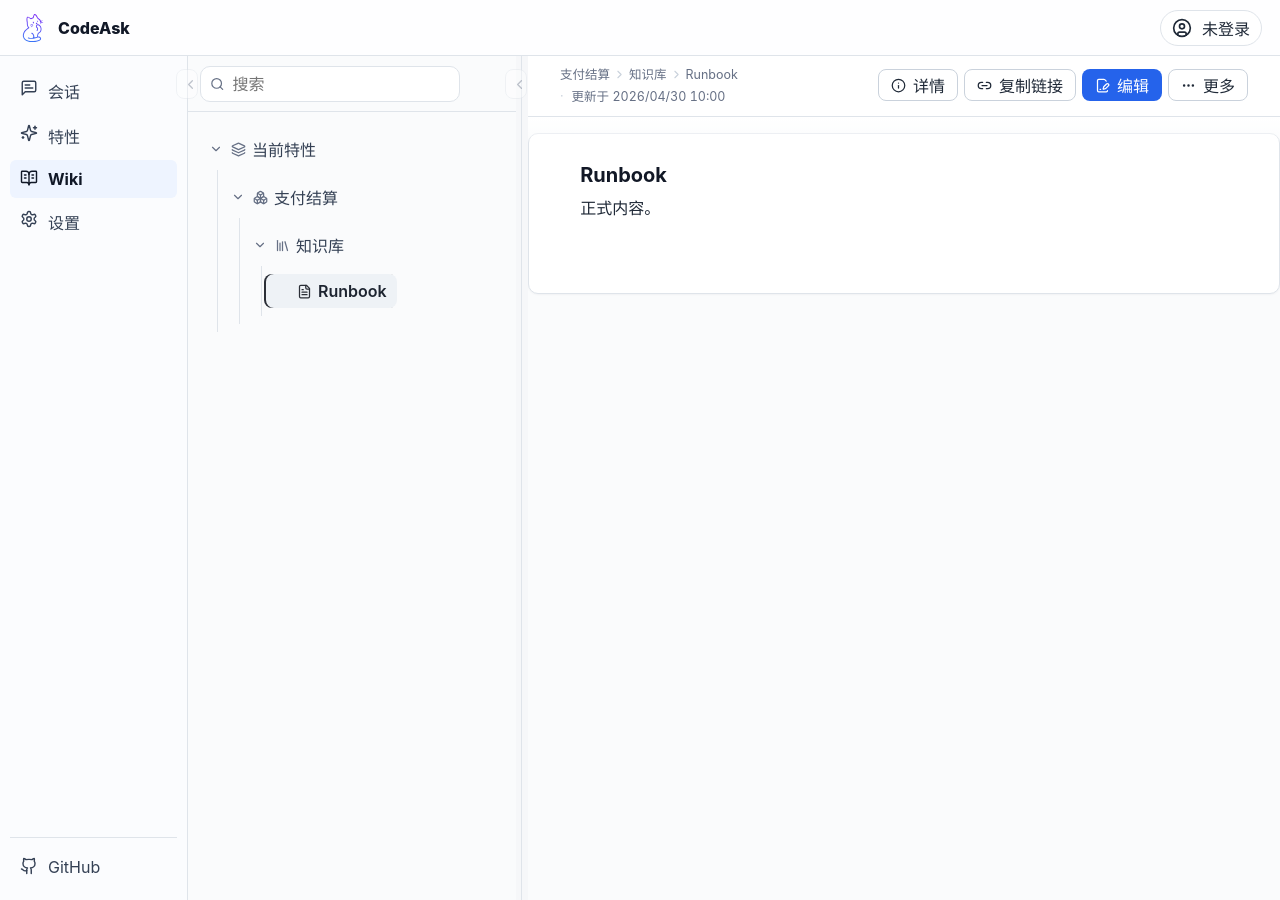
Wiki edit leave workflow › shows a centered save toast after saving from the editor
Click the button "编辑". click: (1122, 85)
box: [1082,69,1162,101]
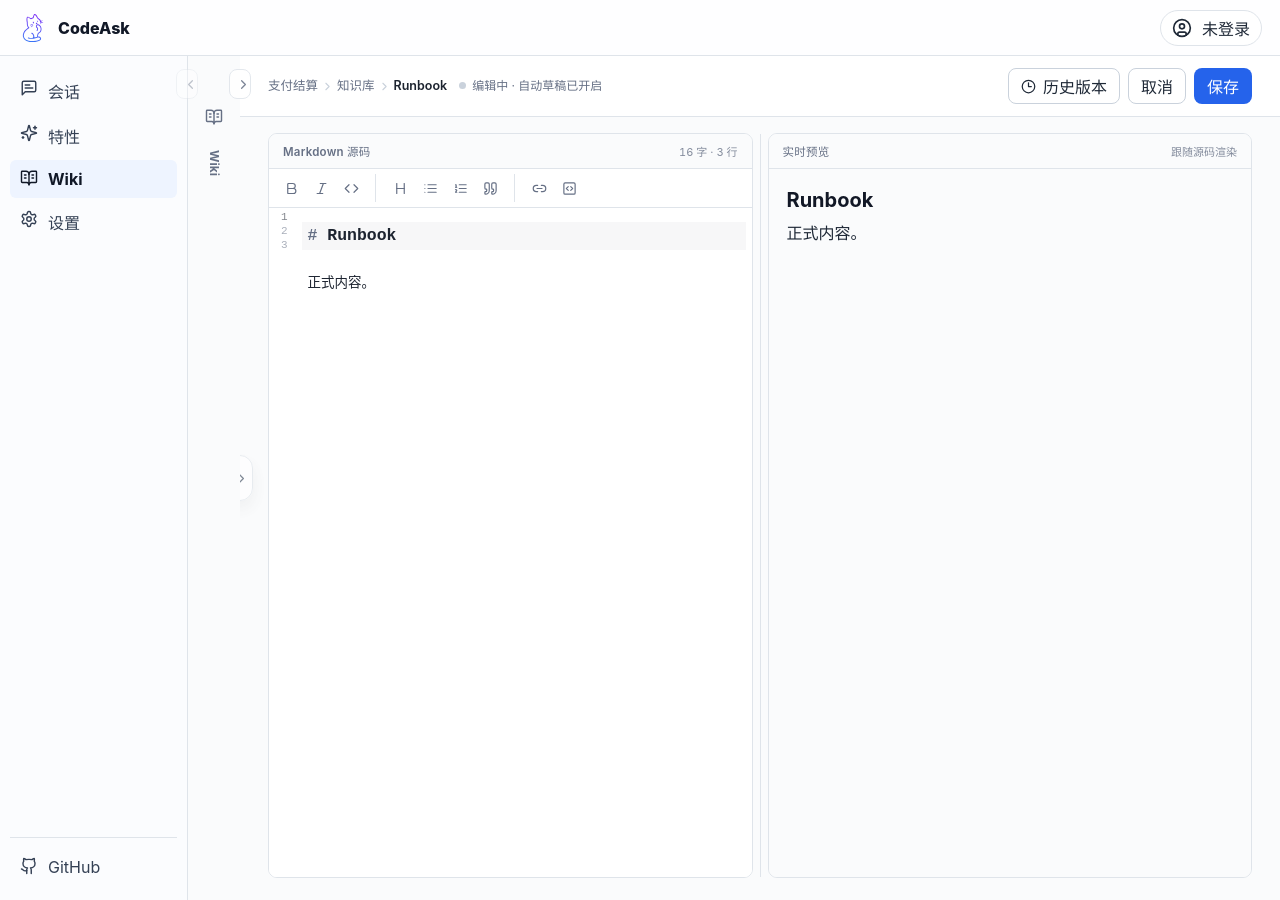
Click the button "保存". click: (1223, 86)
box: [1194,68,1252,104]
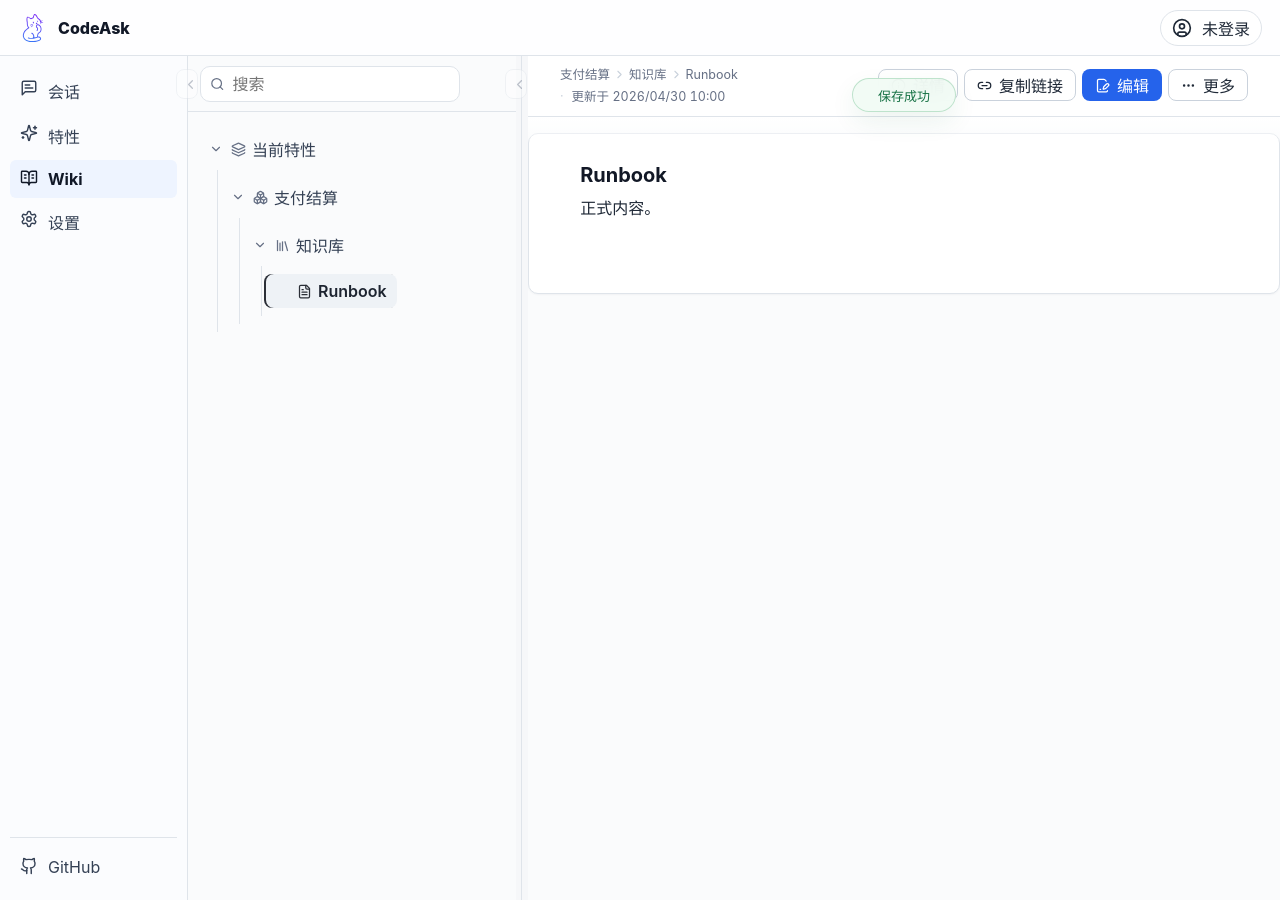
Expected: the message reads "保存成功", [878,88,930,104]
